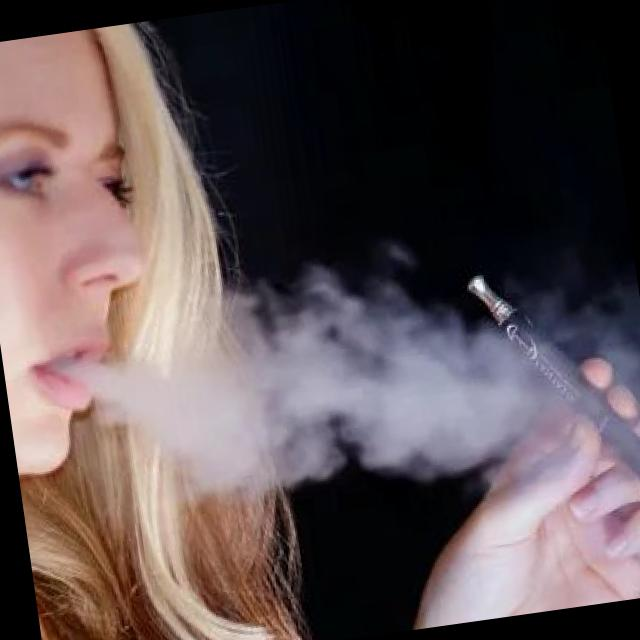cigarette: (457, 252, 640, 536)
